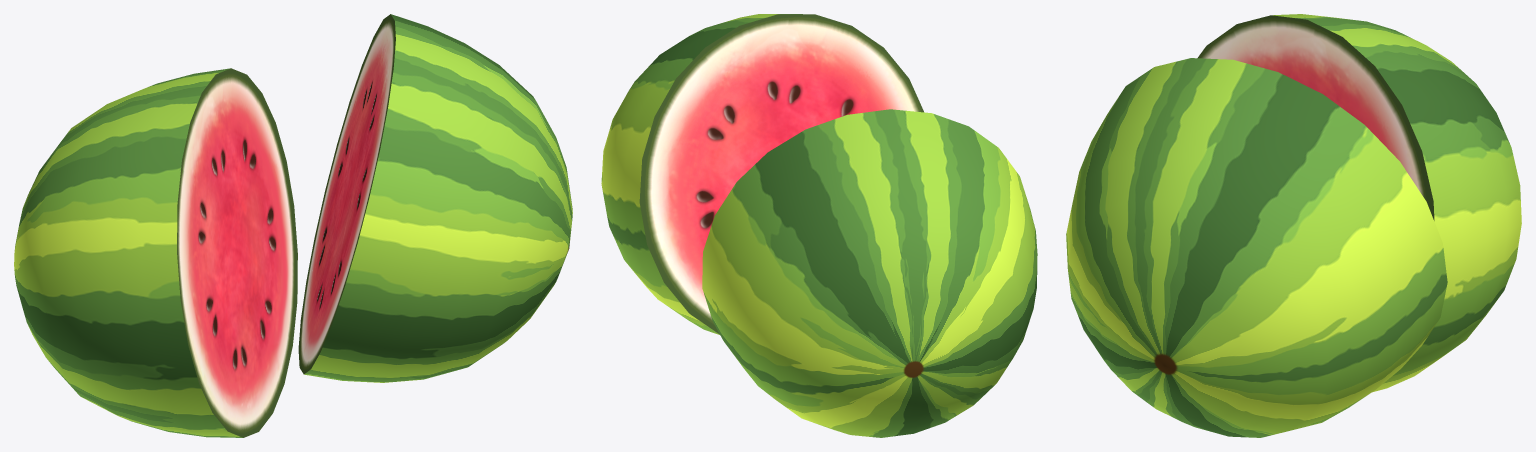
File: sliced_watermelon.glb
3 renders of one model, left to right at view 1: azimuth 30°, elevation 25°; view 2: azimuth 150°, elevation 25°; view 3: azimuth 270°, elevation 25°, orthographic. The views are drawn at different scales.
Parts seen in each view (by area): view 1: Watermelon_Half_Right, Watermelon_Half_Left; view 2: Watermelon_Half_Right, Watermelon_Half_Left; view 3: Watermelon_Half_Left, Watermelon_Half_Right.
Boxes of the visible parts, x1=… form: Watermelon_Half_Right: x1=14, y1=68, x2=297, y2=437; Watermelon_Half_Left: x1=298, y1=14, x2=572, y2=382; Watermelon_Half_Right: x1=702, y1=109, x2=1037, y2=437; Watermelon_Half_Left: x1=601, y1=14, x2=923, y2=334; Watermelon_Half_Left: x1=1066, y1=58, x2=1447, y2=437; Watermelon_Half_Right: x1=1197, y1=14, x2=1521, y2=392.
Bounding box in the file's own units: 1.25 × 0.9466 × 0.9872.
1 material, 1 textured.
